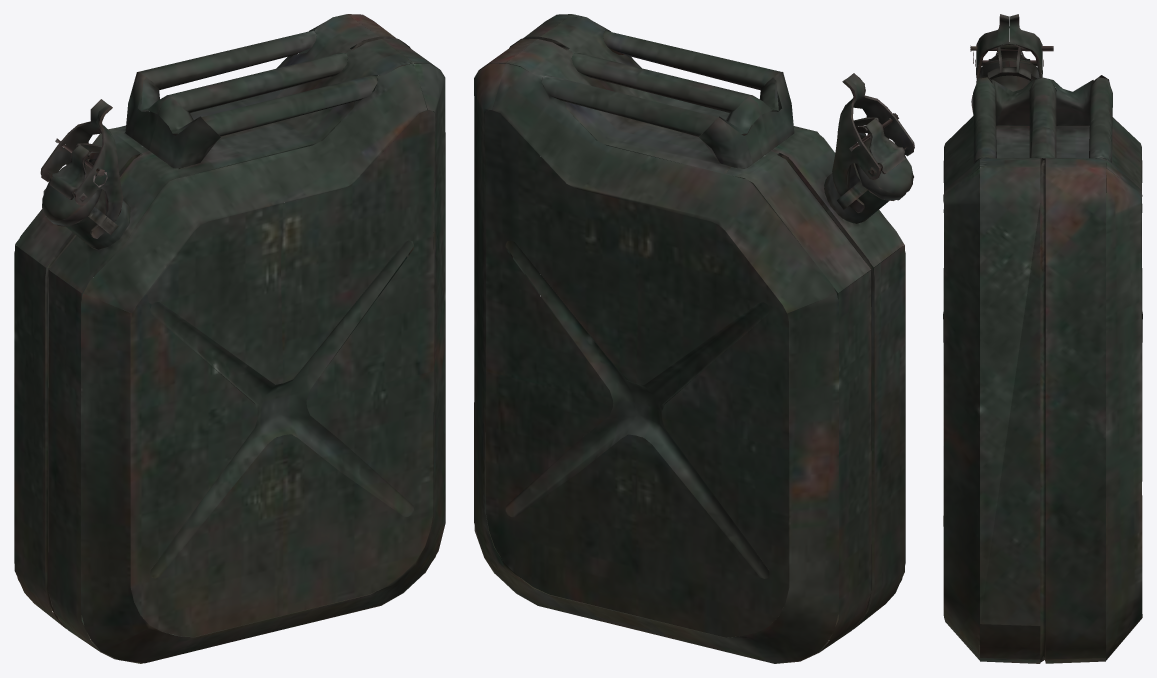
File: jerry.glb
3 views of the same model, side by side, from view 1: azimuth 30°, elevation 25°; view 2: azimuth 150°, elevation 25°; view 3: azimuth 270°, elevation 25° (orthographic). The views are drawn at different scales.
Visible parts, largest first — view 1: metal_jerrycan_green_pin; view 2: metal_jerrycan_green_pin; view 3: metal_jerrycan_green_pin.
Part boxes in pixels (x1,y1,x2,y2): metal_jerrycan_green_pin: [14, 14, 445, 663]; metal_jerrycan_green_pin: [474, 14, 914, 663]; metal_jerrycan_green_pin: [943, 14, 1142, 663].
Bounding box in the file's own units: 0.3608 × 0.5 × 0.1724.
1 material, 1 textured.
